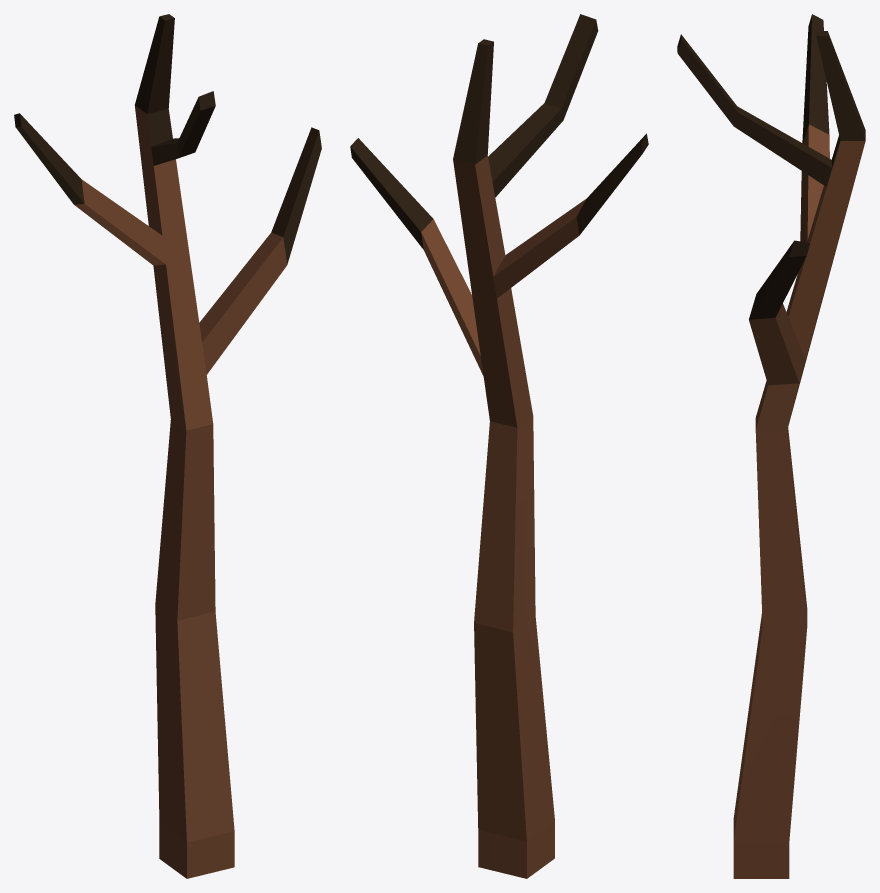
File: T_burnttree5.fbx
3 renders of one model, left to right at view 1: azimuth 30°, elevation 25°; view 2: azimuth 150°, elevation 25°; view 3: azimuth 270°, elevation 25°, orthographic. The views are drawn at different scales.
Visible parts, largest first — view 1: Cube; view 2: Cube; view 3: Cube.
Boxes of the visible parts, left/top/right/bottom form: Cube: left=14, top=14, right=321, bottom=878; Cube: left=350, top=14, right=648, bottom=878; Cube: left=677, top=14, right=865, bottom=878.
Size of the model in its own units: 371 by 1002 by 205.
